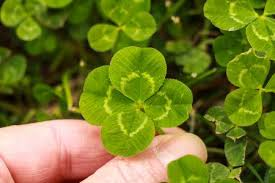4-clover: (82, 48, 192, 154)
